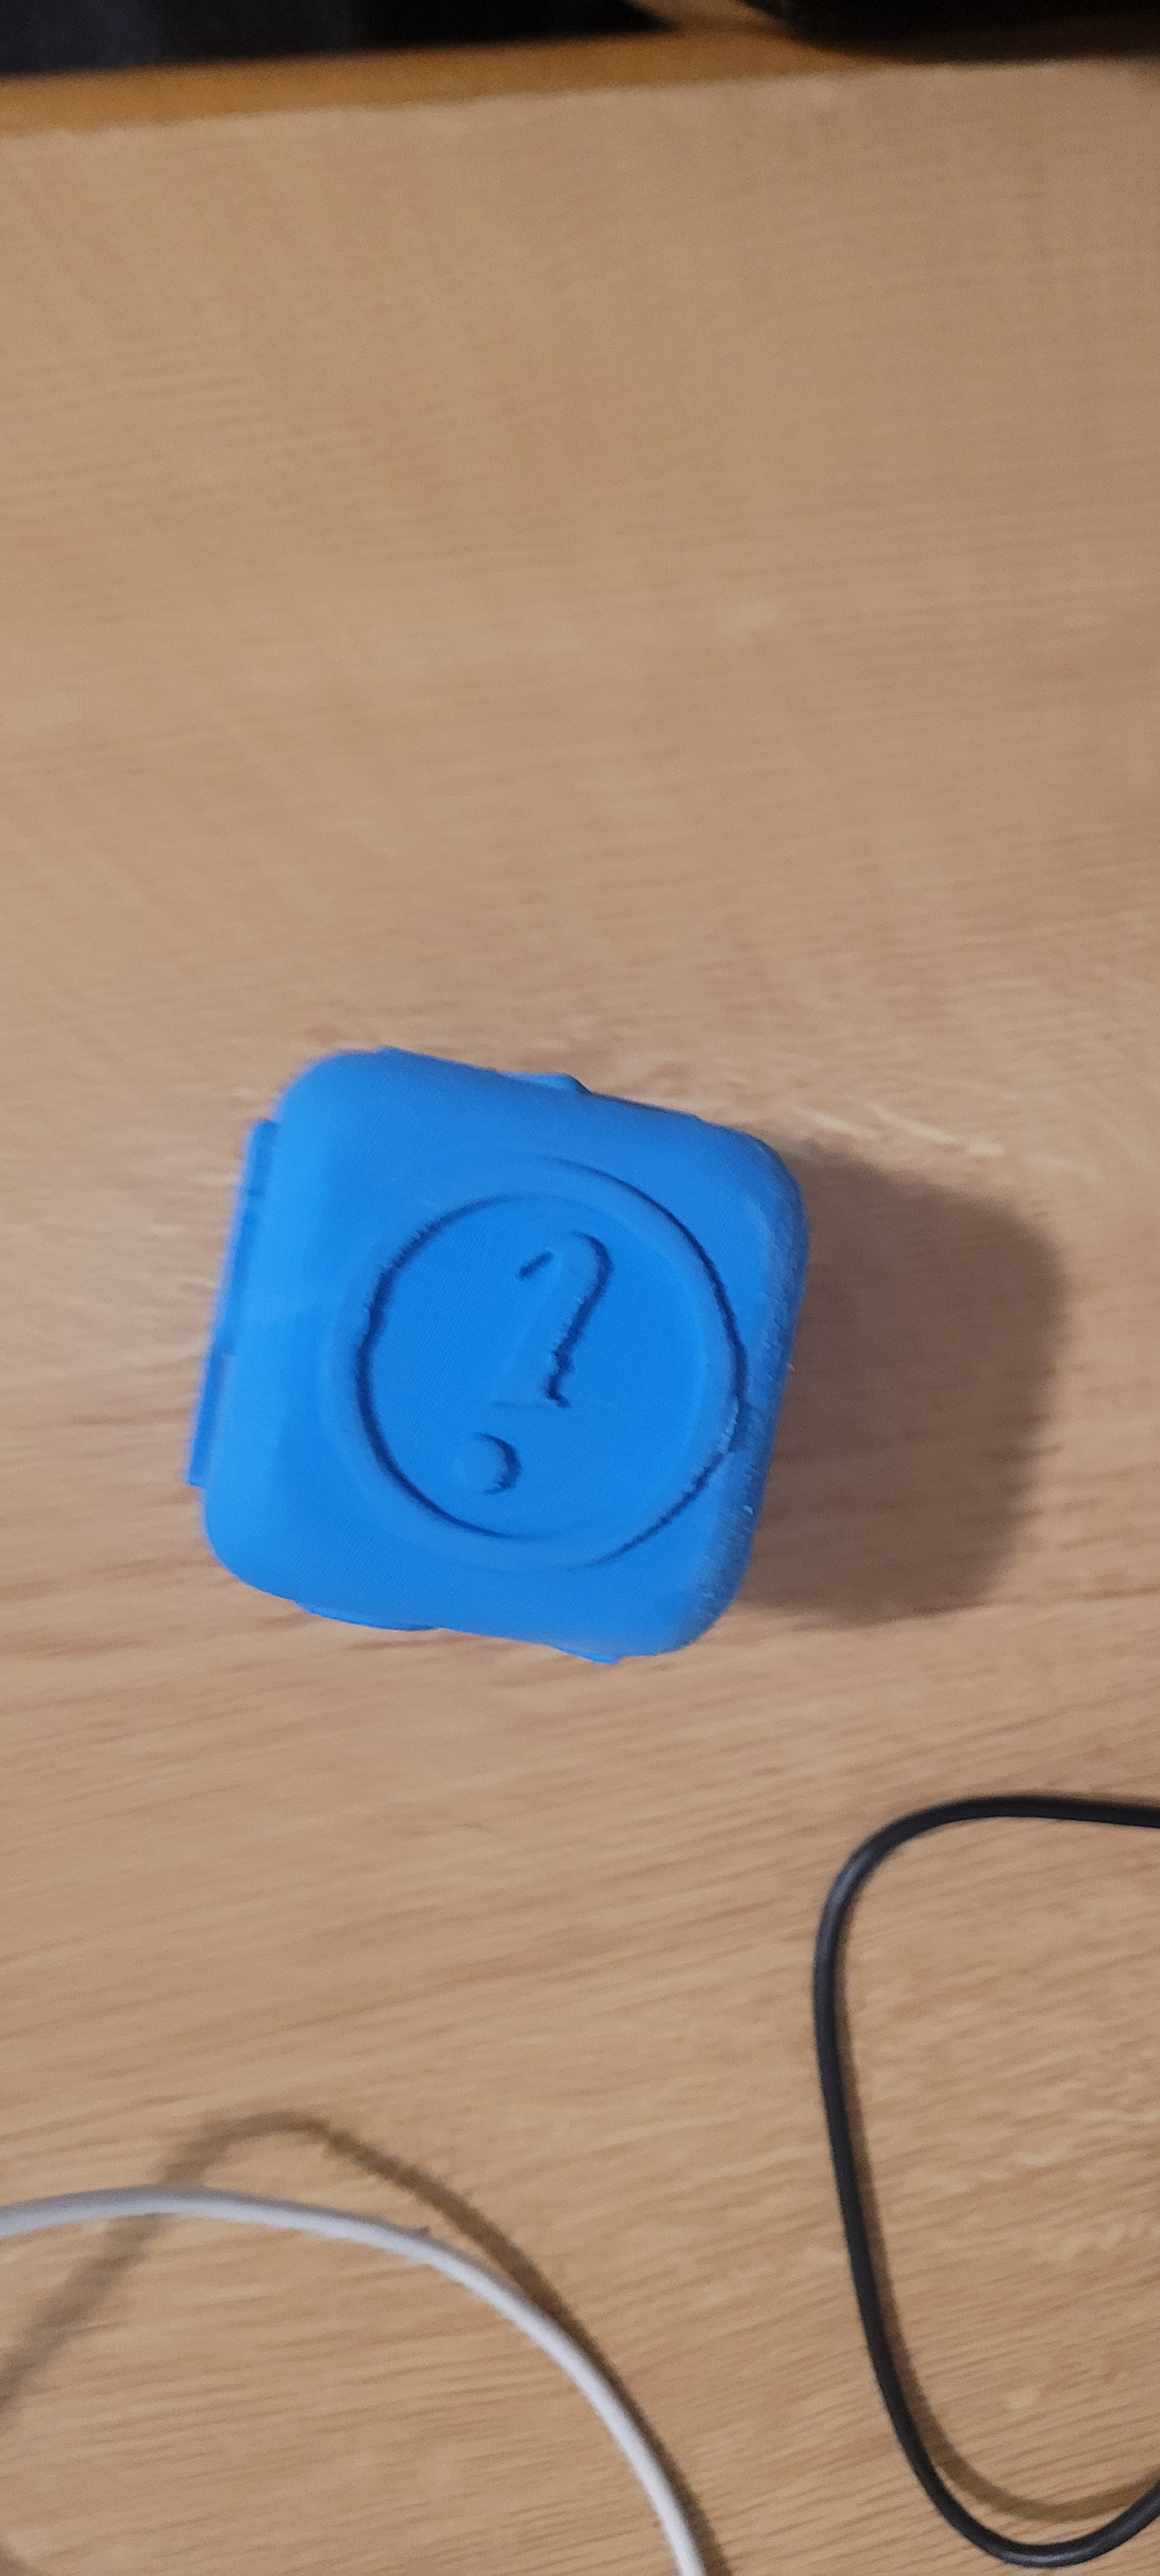Info: (340, 1165, 757, 1575)
